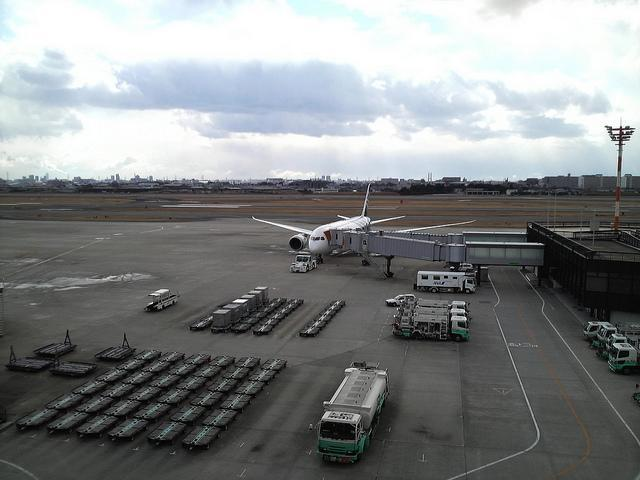car: (144, 288, 180, 310), (584, 322, 610, 342), (290, 254, 316, 273), (386, 294, 418, 306), (450, 262, 473, 272)
truck: (308, 360, 391, 464), (392, 314, 470, 341), (416, 271, 477, 293), (608, 343, 640, 375), (601, 334, 640, 360), (597, 322, 640, 344), (415, 307, 471, 323), (418, 296, 469, 313), (290, 254, 316, 272)
